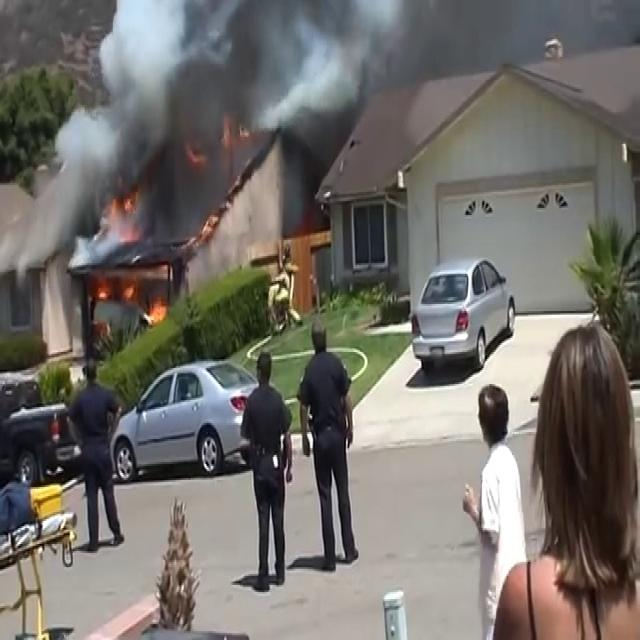Fire: (141, 291, 168, 329)
Smoke: (55, 0, 363, 245)
